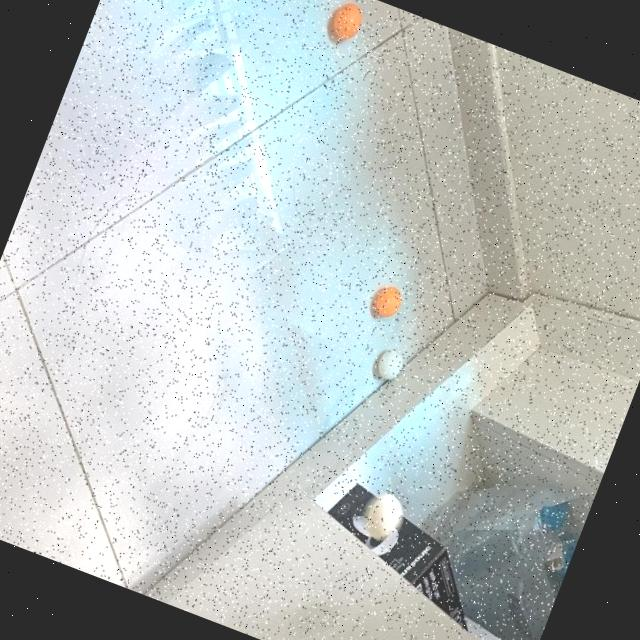ping-pong-ball: (360, 489, 408, 540), (328, 0, 368, 42), (372, 282, 407, 320), (374, 345, 408, 383)
